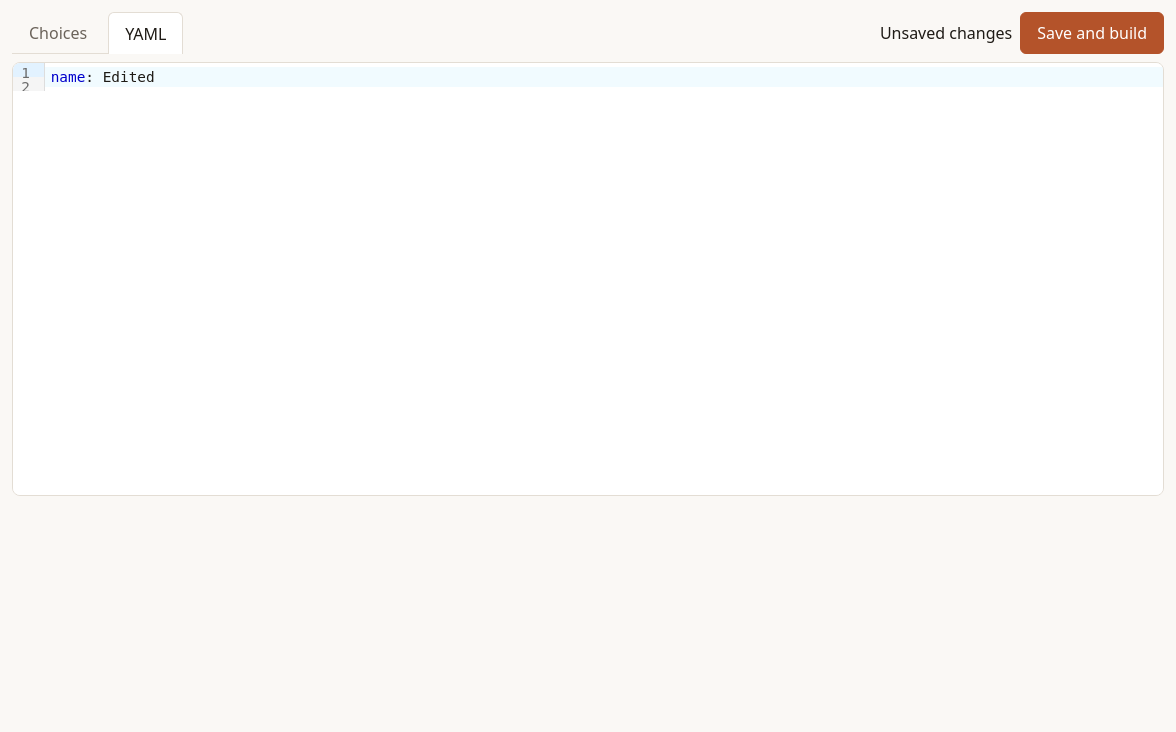
Test case: DesignEditor › won't leave YAML that isn't valid, and says where it's wrong
Step 1. Click the tab "Choices" → point(58, 32), box [12,12,104,53]
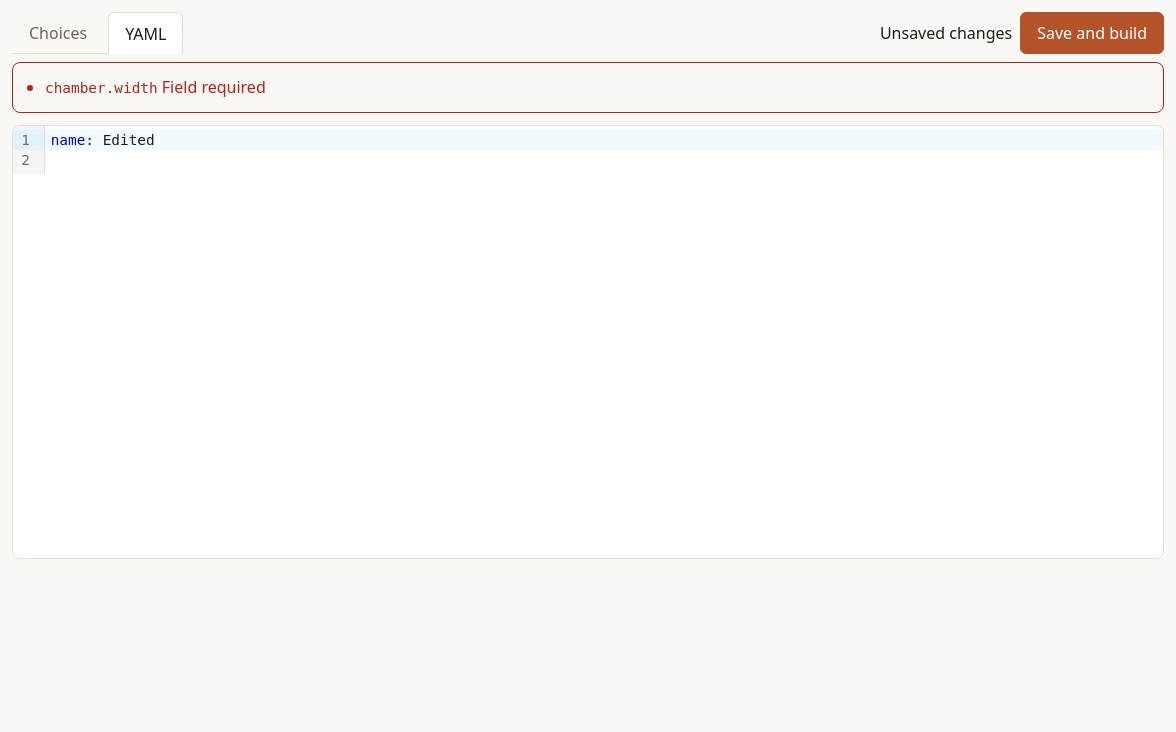
Expected: the message reads "chamber.width Field required", [12,62,1164,113]
